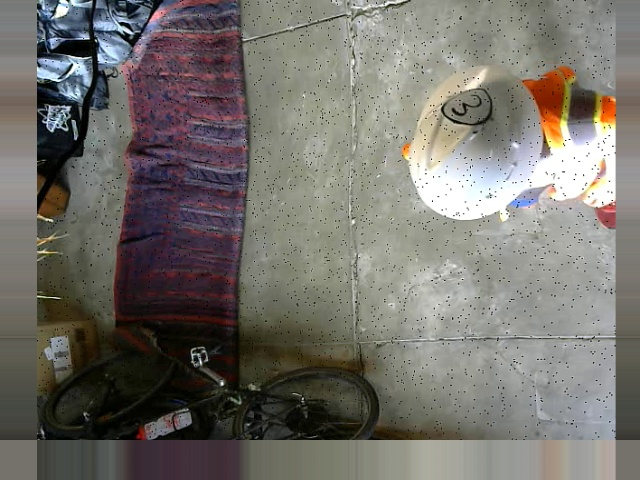three: (440, 87, 489, 127)
